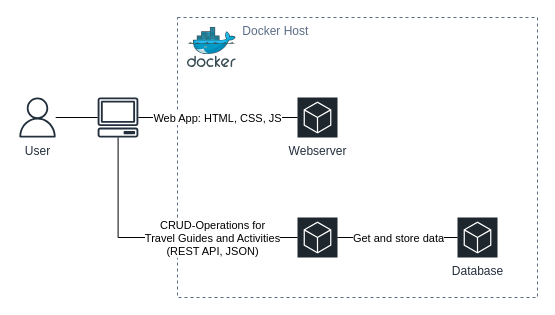
Image size: 555x315. Some labels were removed from this diagram. The centre of each missing label's shape, as x and y in pixels:
Backend: (317,237)
Web-Browser: (117,117)
